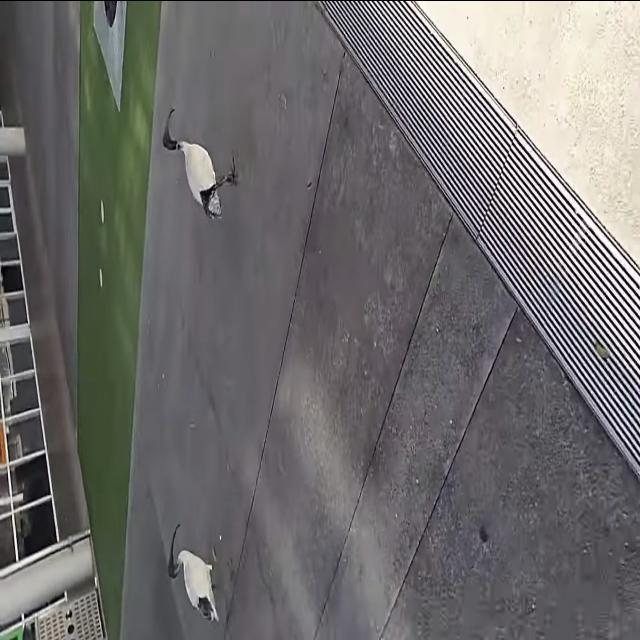Birds-Ibis: (158, 100, 242, 226), (161, 520, 225, 630)
